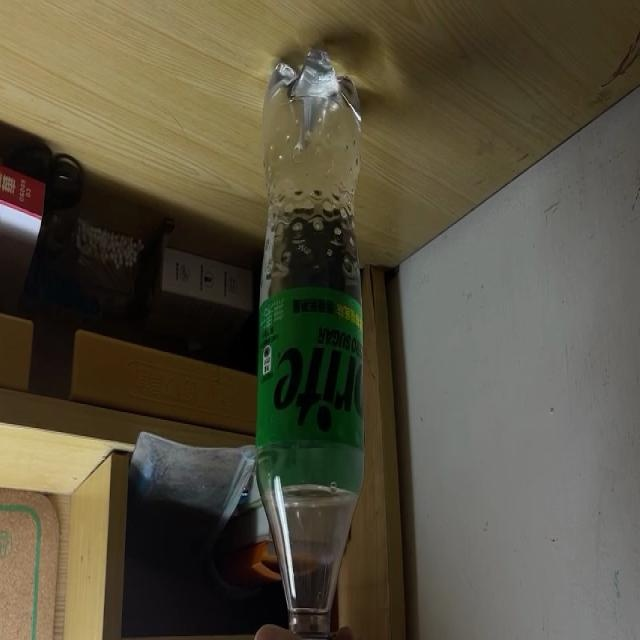Sprite: (257, 47, 360, 635)
